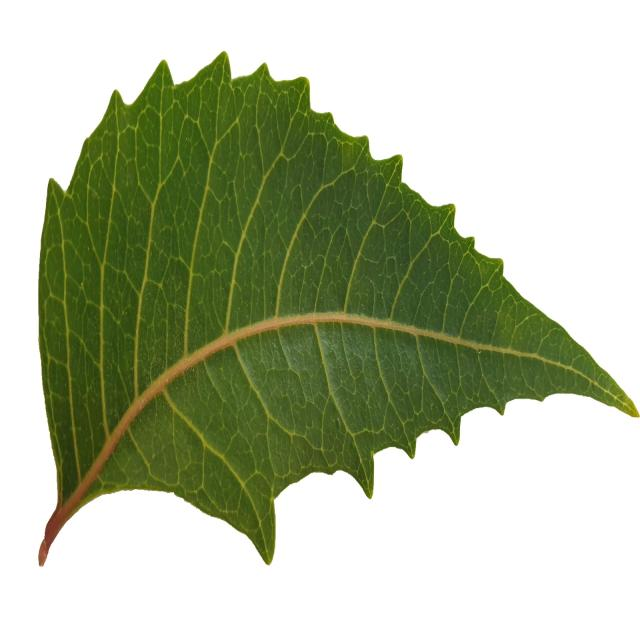Medicinal-Neem: (30, 46, 640, 589)
